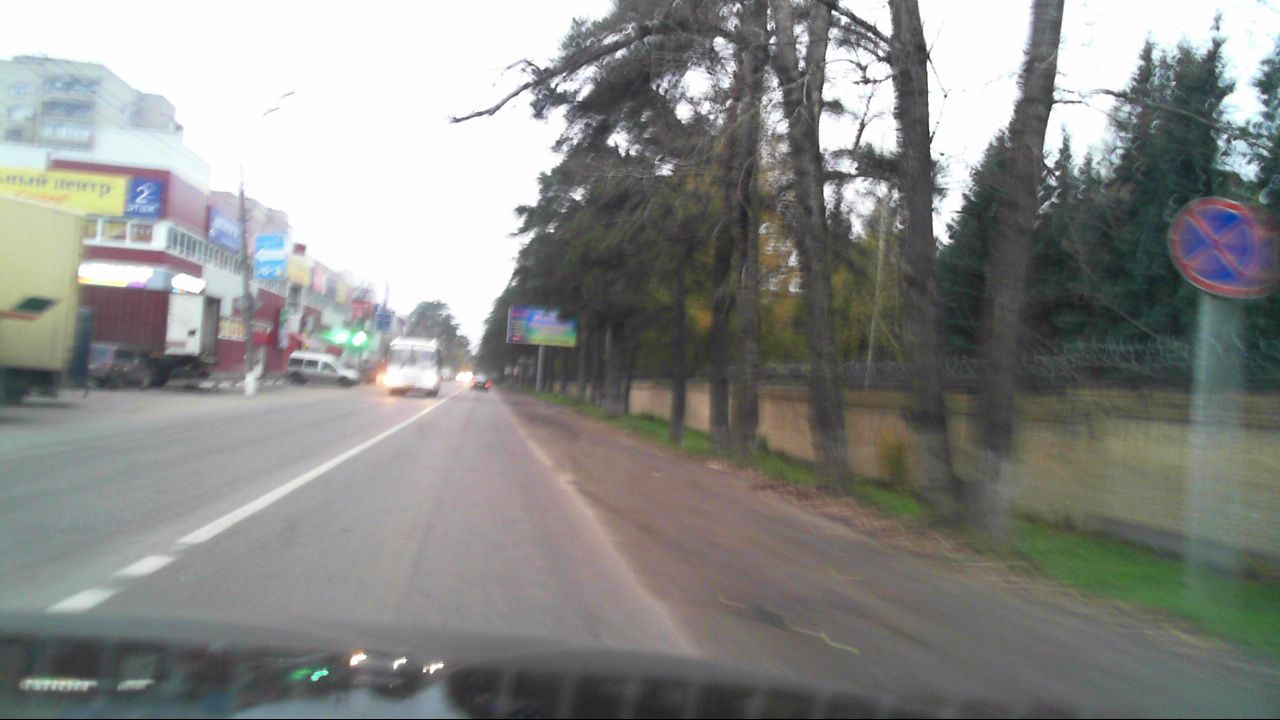No Parking: (1170, 198, 1264, 298)
